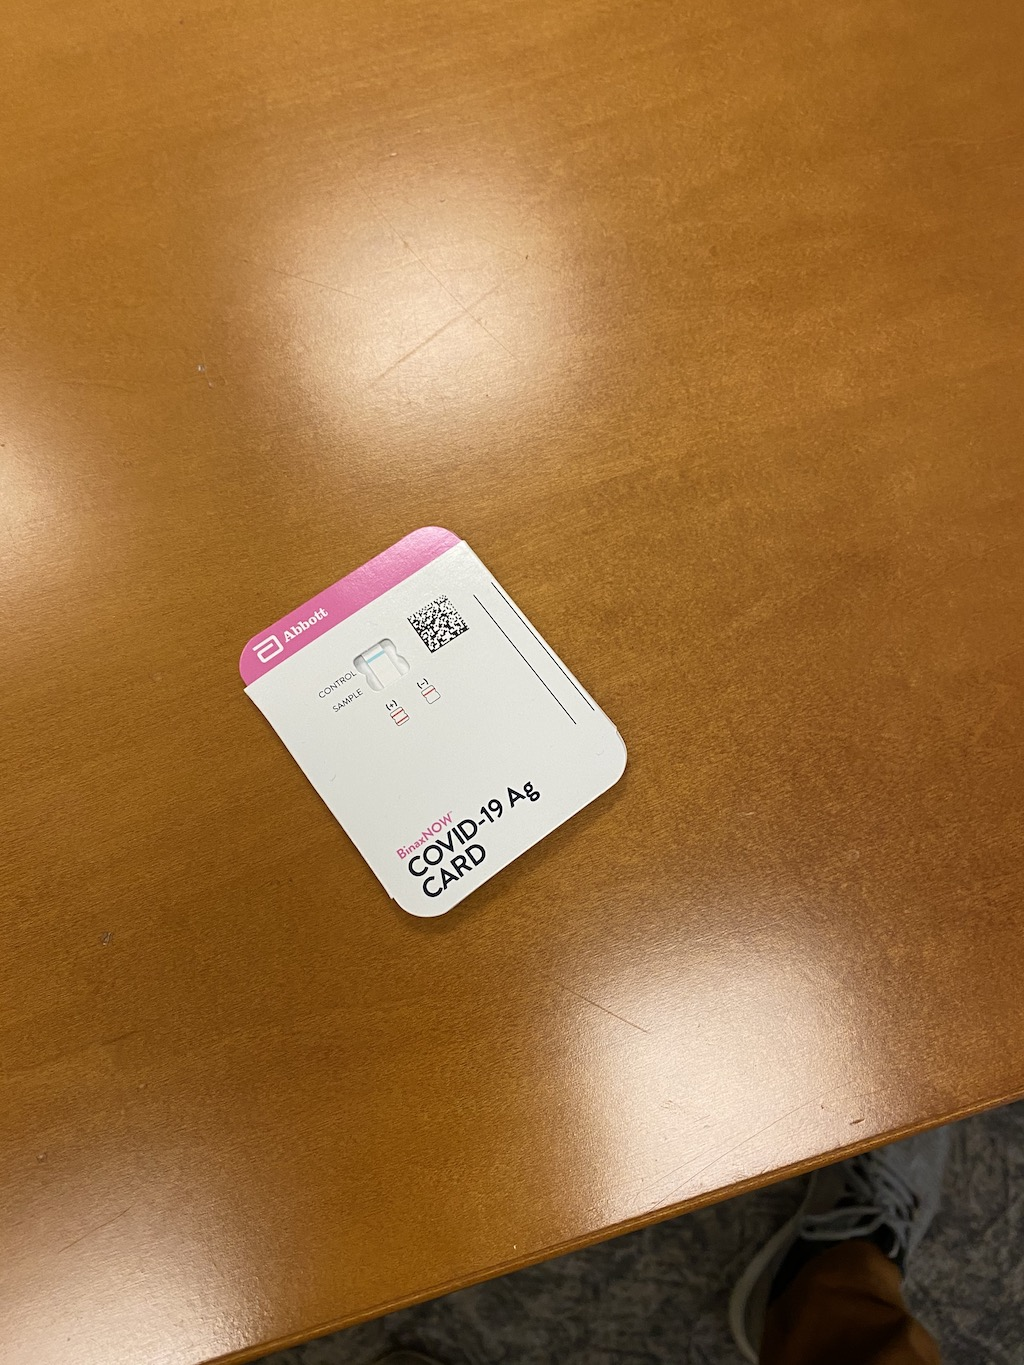binax-negative: (236, 517, 634, 922)
